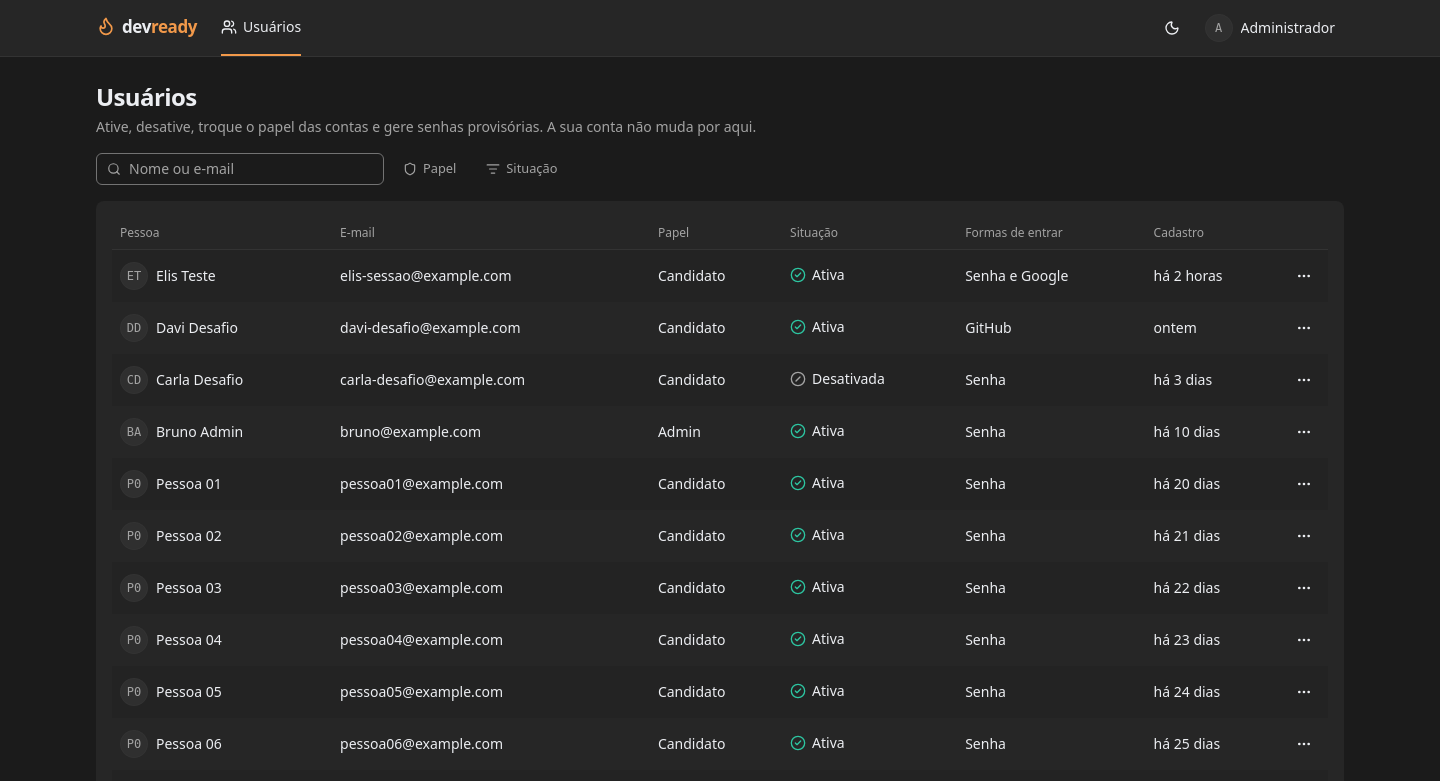
Scenario: senha provisória na gestão de usuários › pede confirmação com o efeito e mostra a senha uma vez, sem guardá-la no store nem na URL
Click the button named "Ações para Elis Teste". click: (1304, 276)
box: 1288,260 -> 1320,292
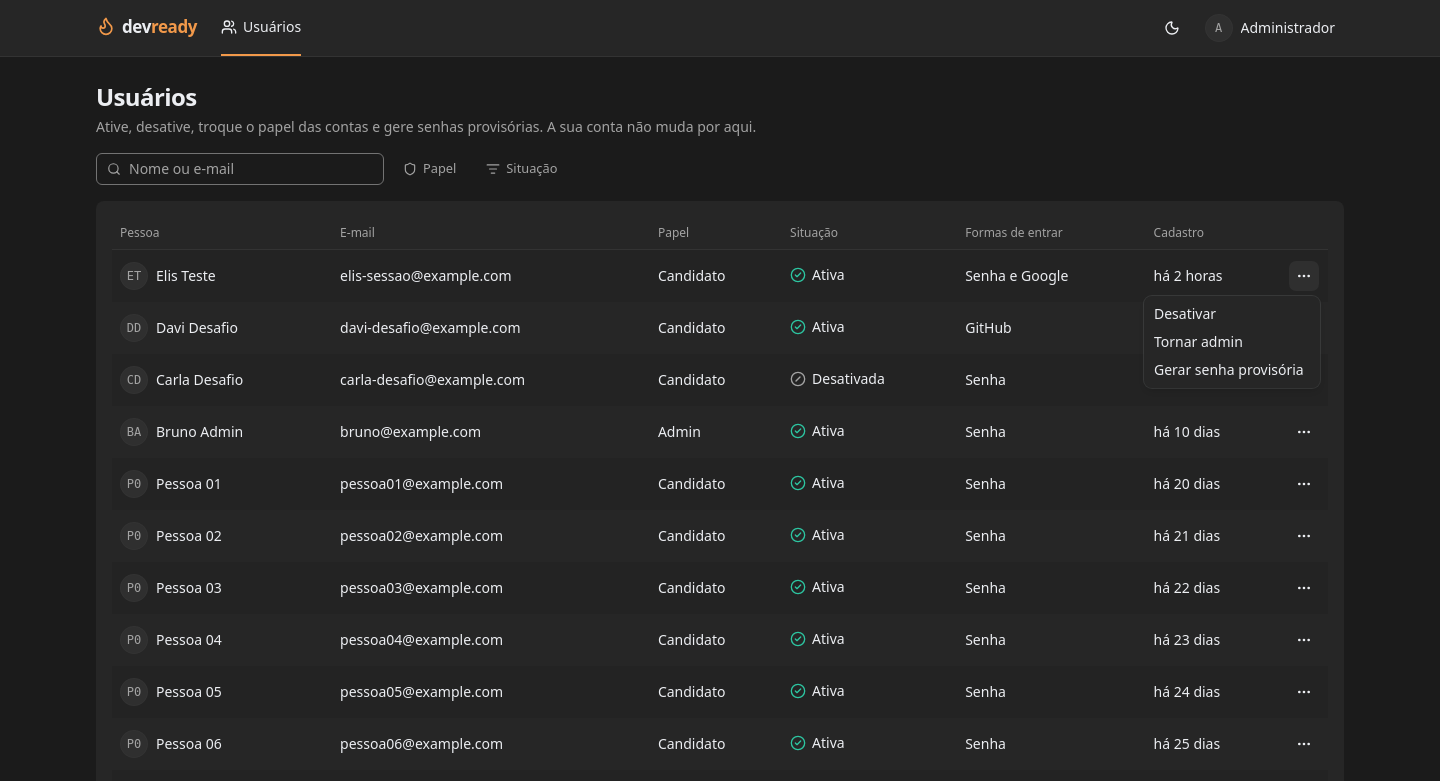
Click the menu item "Gerar senha provisória". click: (1232, 370)
box: 1148,356 -> 1316,384
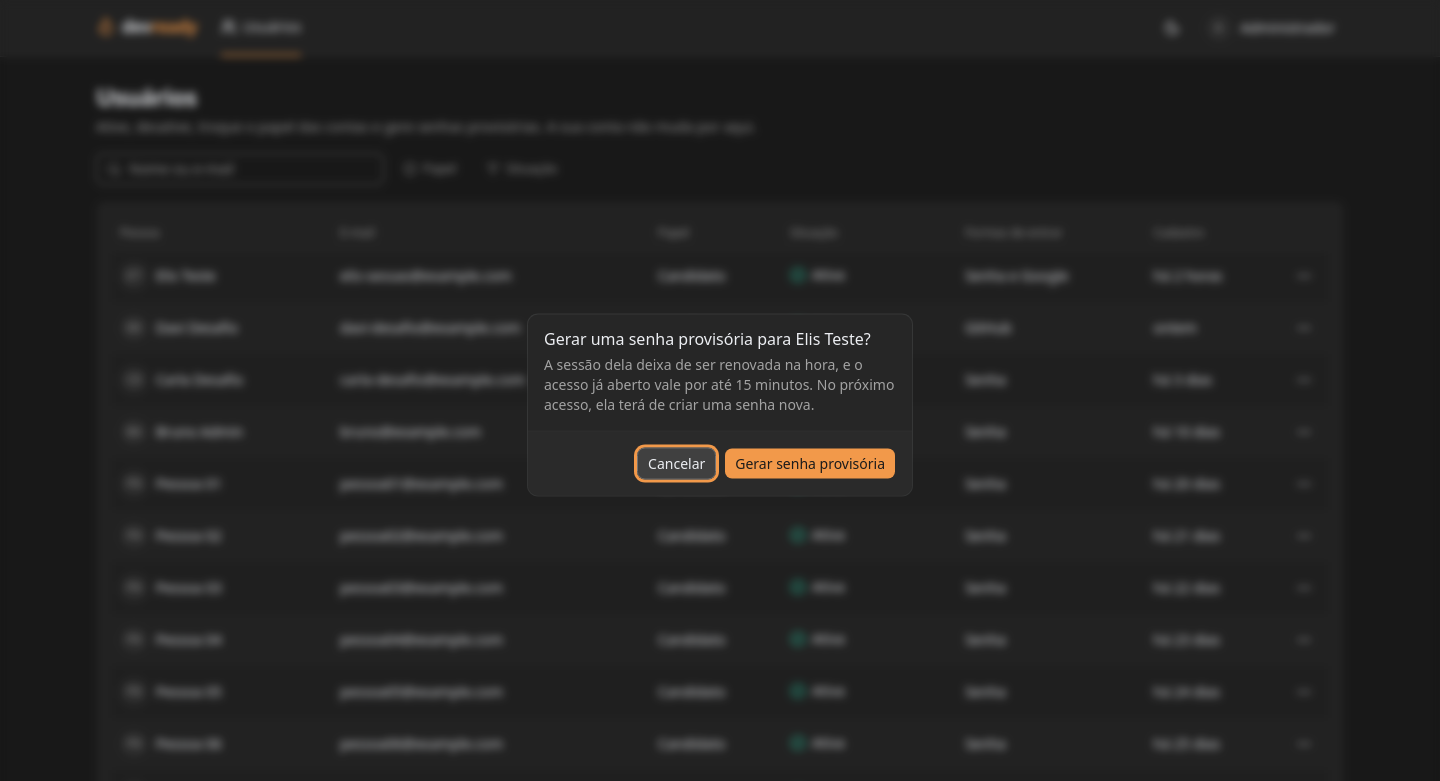
Now the text "A sessão dela deixa de ser renovada na hora, e o acesso já aberto vale por até 15 minutos. No próximo acesso, ela terá d" is shown, box 544,354 -> 894,414
Click the button "Gerar senha provisória". click: (810, 464)
box: 724,448 -> 896,480
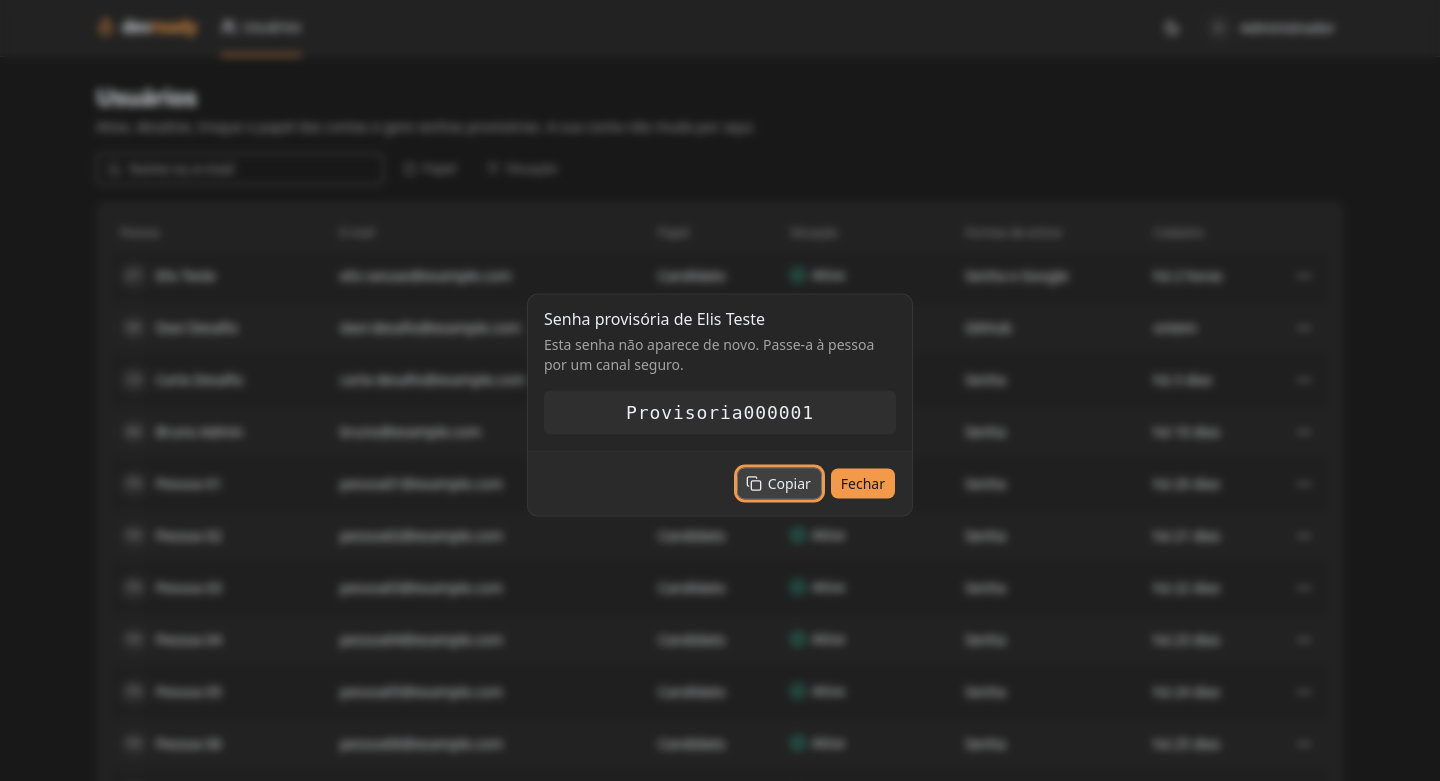
Now the number of dialogs is 1, box 528,294 -> 912,516
Now the text "Esta senha não aparece de novo. Passe-a à pessoa por um canal seguro." is shown, box 544,334 -> 896,374
